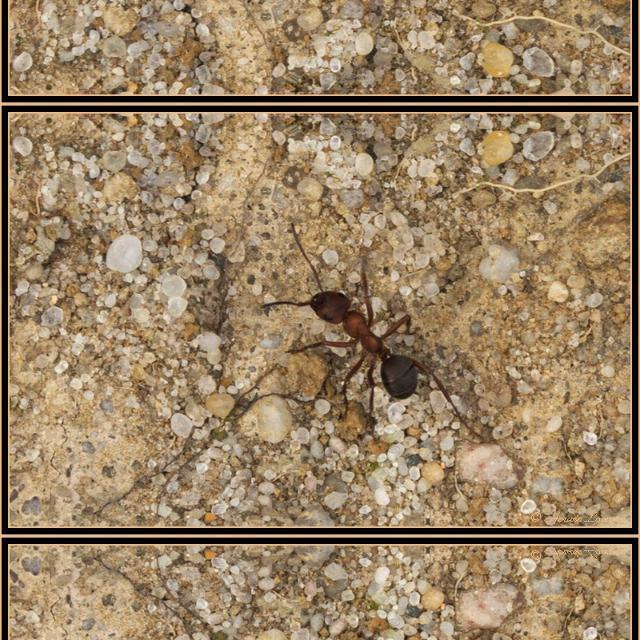Formica: (270, 252, 452, 416)
